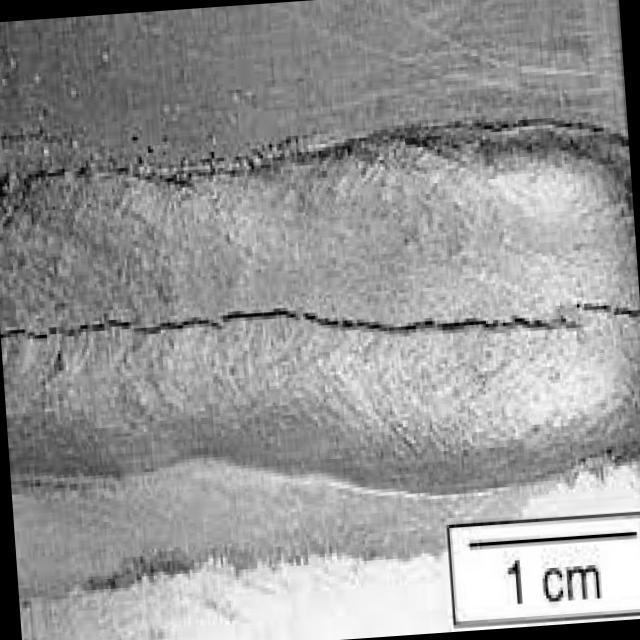defect: (0, 292, 634, 349)
